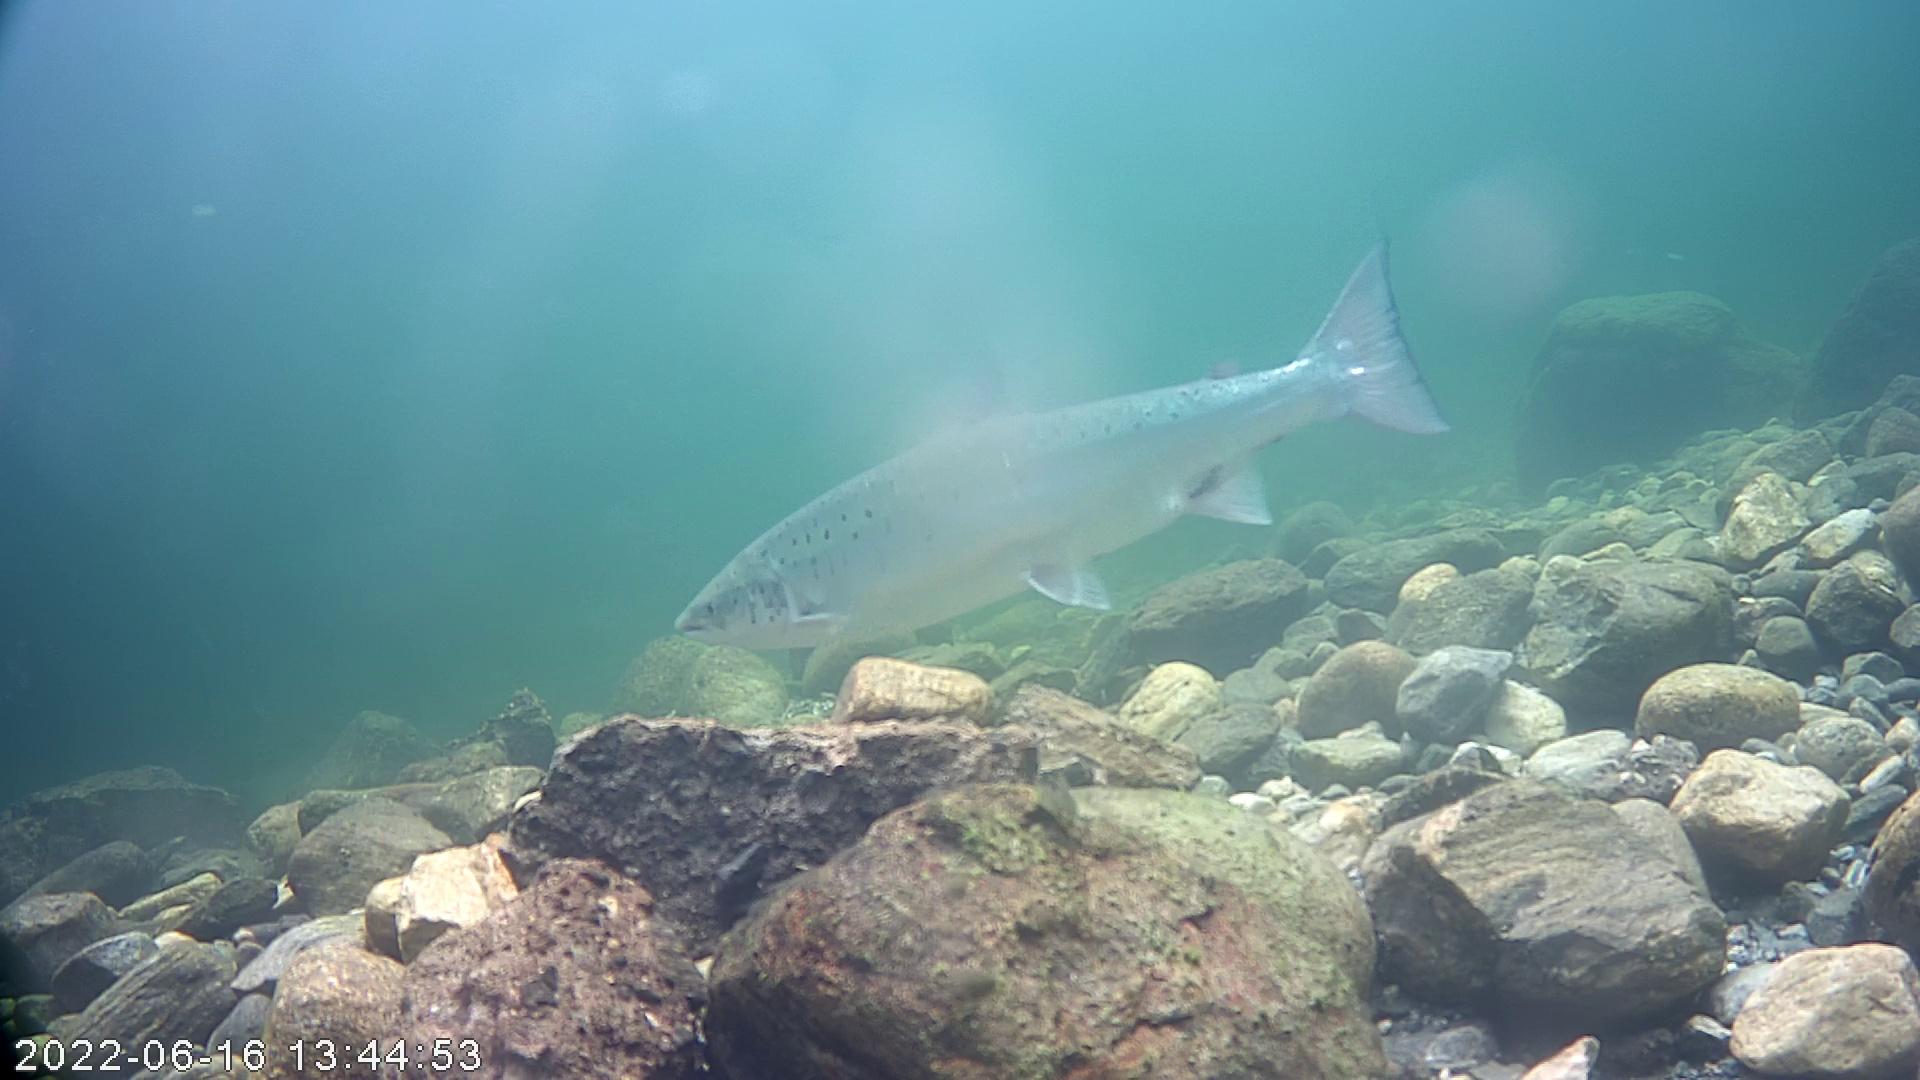salmon: (676, 235, 1455, 655)
